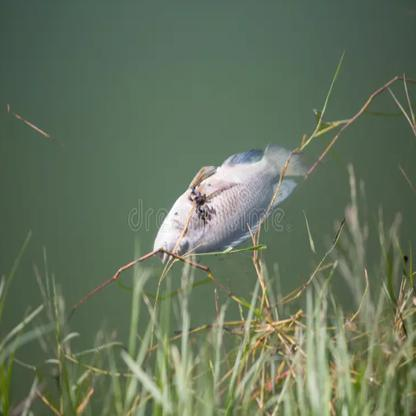deceased fish: (154, 141, 308, 258)
